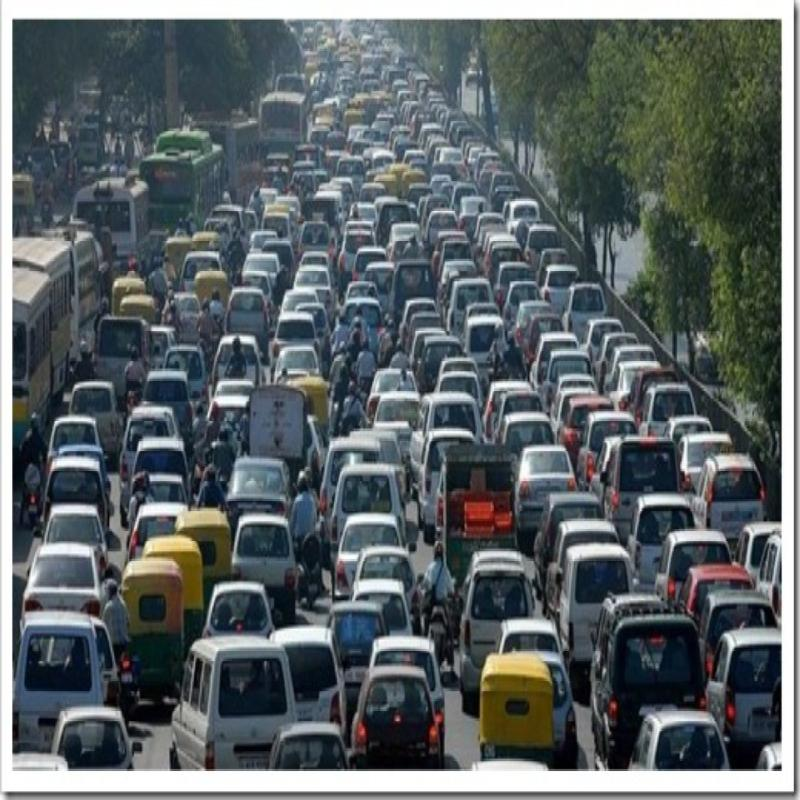auto: (470, 649, 556, 761), (154, 514, 234, 614), (125, 565, 182, 683), (292, 356, 342, 449)
car: (185, 643, 292, 800), (603, 583, 702, 733), (713, 629, 800, 761), (348, 665, 442, 777), (280, 623, 354, 736), (597, 423, 685, 513), (412, 412, 481, 518), (18, 536, 101, 619), (336, 505, 402, 599), (700, 447, 759, 546), (518, 440, 576, 526), (116, 409, 181, 475), (240, 518, 294, 594), (460, 298, 507, 378)
